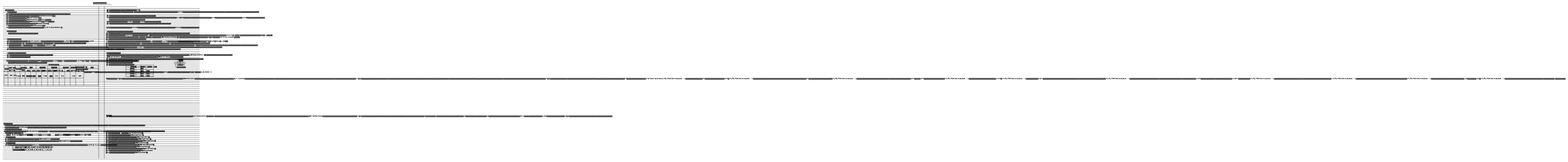door: (1402, 100, 1411, 102)
window: (1365, 100, 1387, 103), (1365, 99, 1387, 102), (1446, 100, 1468, 103), (1426, 100, 1448, 103), (1426, 99, 1448, 102), (1345, 99, 1366, 102)
